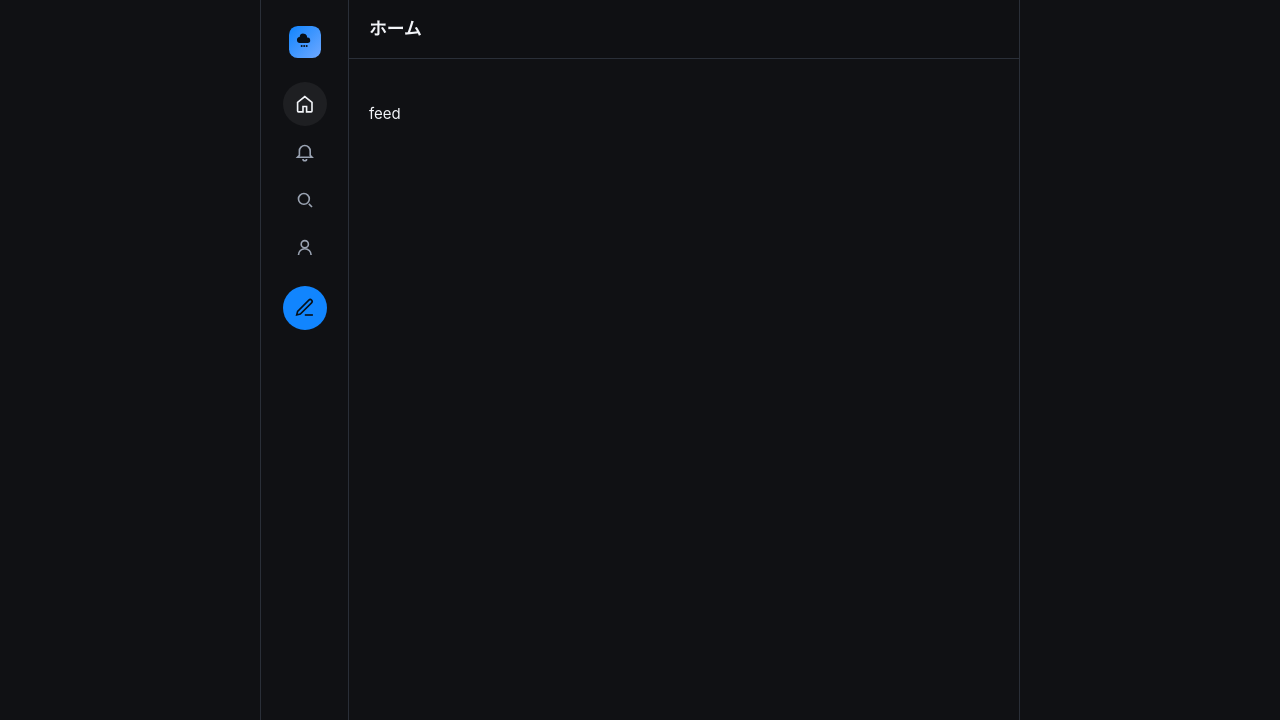
Scenario: AppShell navigation › keeps five hubs and opens the compose sheet
Expected: the navigation bar named "メイン" is shown, [261,0,349,719]
Expected: the link named "ホーム" is shown, [282,82,326,126]
Click the button named "投稿" at (304, 308), box [282,286,326,330]
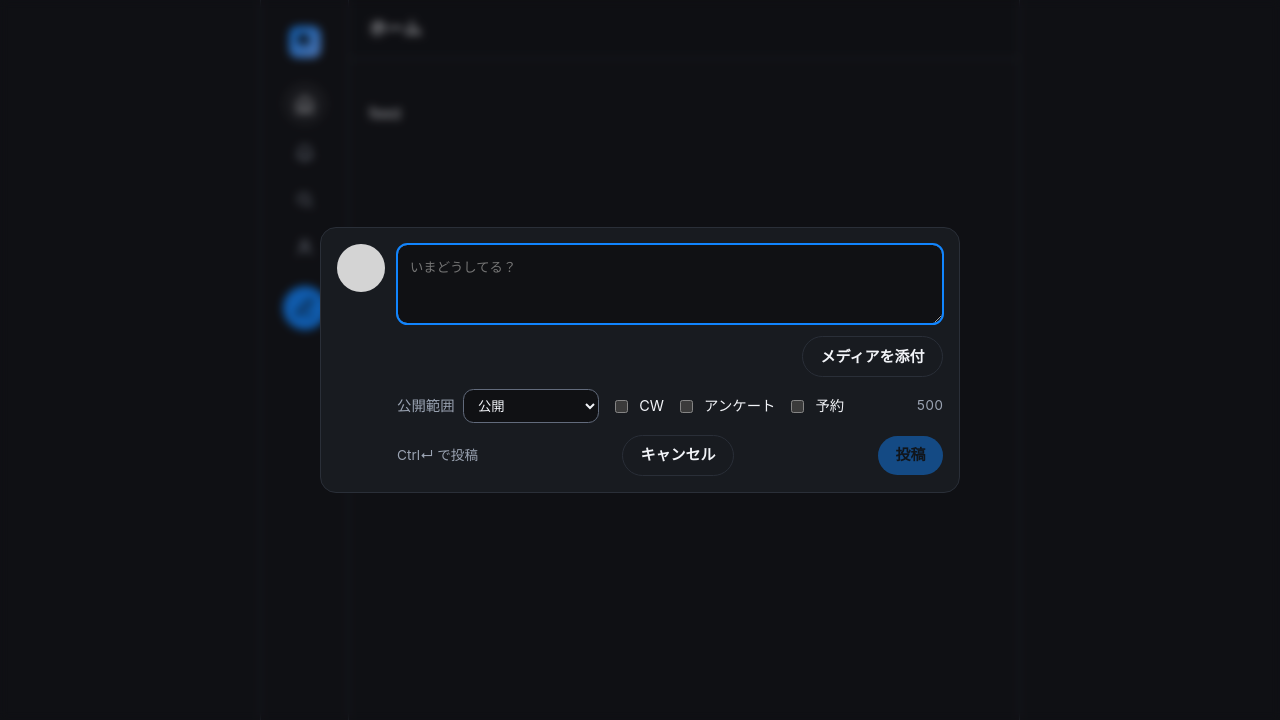
Expected: the dialog named "新規投稿" is shown, [320,227,960,493]
